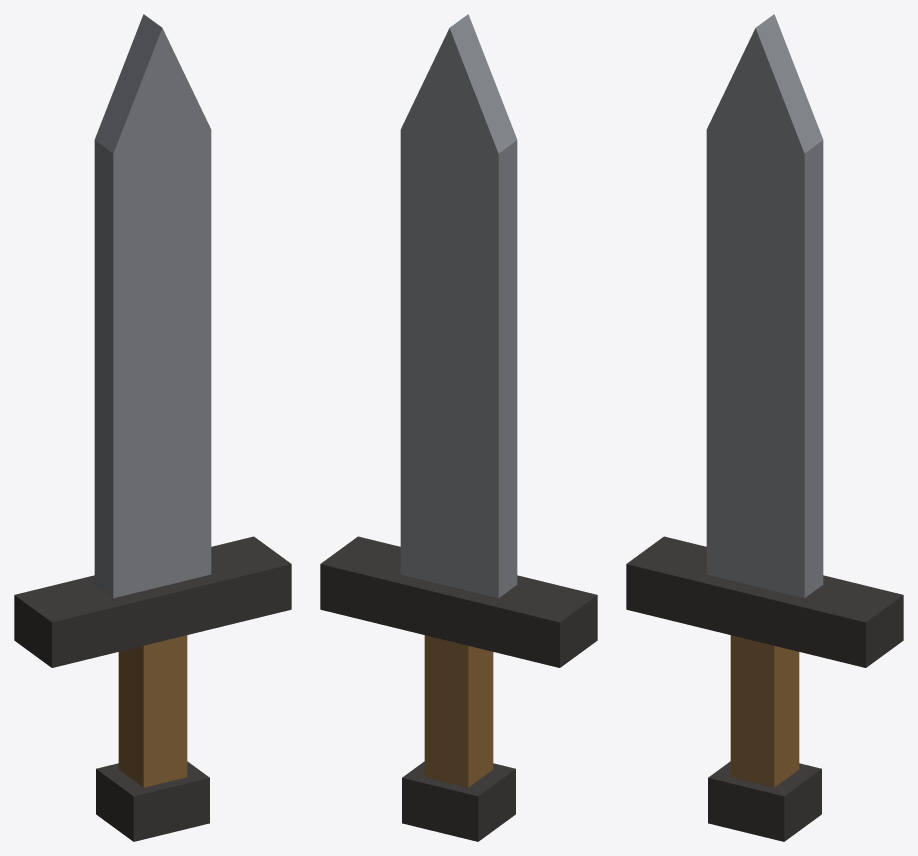
File: sword_stone.fbx
3 renders of one model, left to right at view 1: azimuth 30°, elevation 25°; view 2: azimuth 150°, elevation 25°; view 3: azimuth 330°, elevation 25°, orthographic.
Visible parts, largest first — view 1: sword_stone; view 2: sword_stone; view 3: sword_stone.
Part boxes in pixels (x1,y1,x2,y2): sword_stone: (14, 14, 291, 841); sword_stone: (320, 14, 597, 841); sword_stone: (626, 14, 903, 841).
Bounding box in the file's own units: 0.66 × 2.1 × 0.18.
